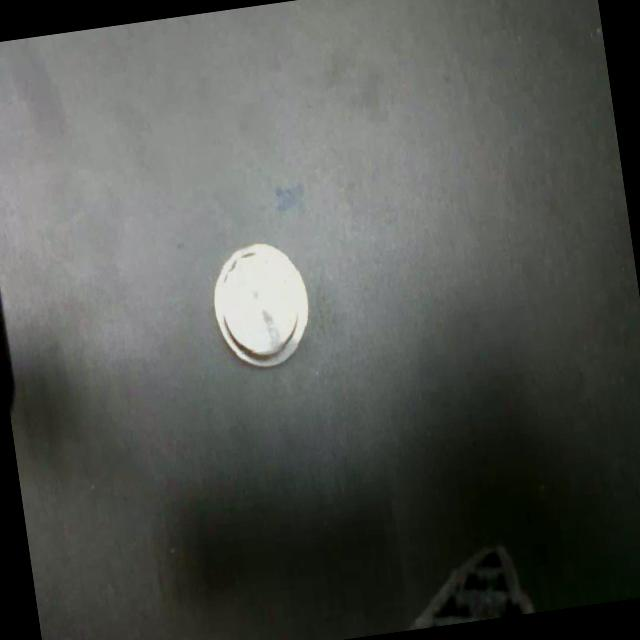sensor: (205, 234, 318, 374)
